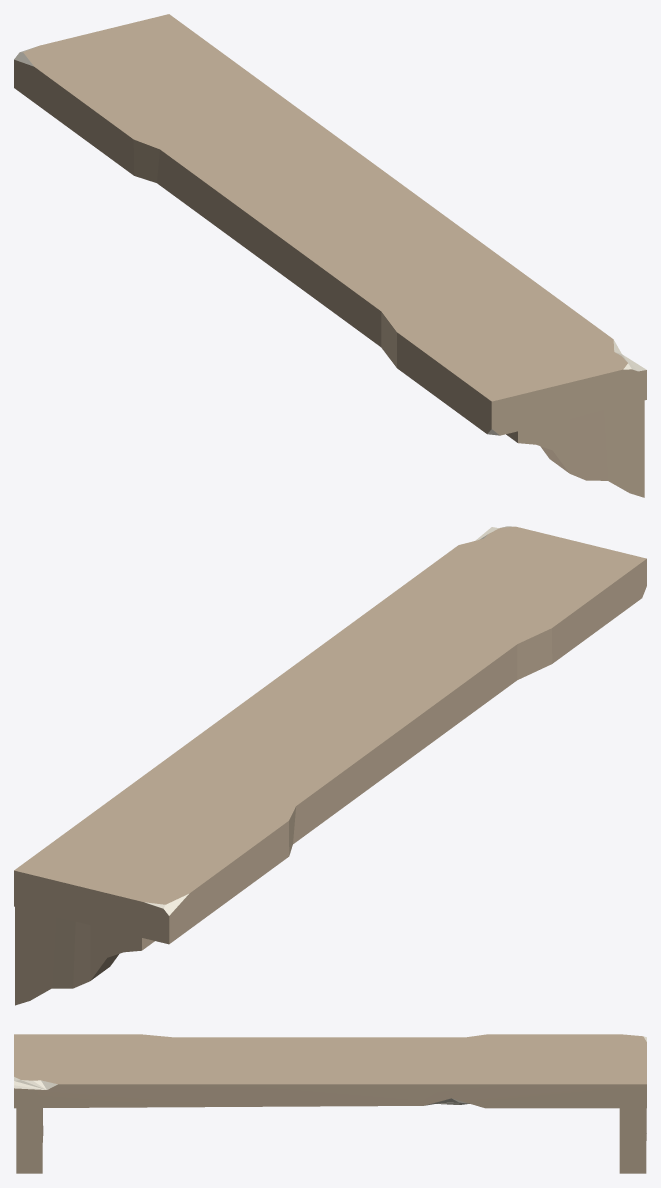
Rendered from Półka1.fbx.
The picture shows the model from 3 angles, top to bottom: view 1: azimuth 30°, elevation 25°; view 2: azimuth 150°, elevation 25°; view 3: azimuth 270°, elevation 25°; orthographic projection. The views are drawn at different scales.
Parts seen in each view (by area): view 1: 4; view 2: 4; view 3: 4.
Part boxes in pixels (left/top/right/bottom): 4: left=14, top=14, right=646, bottom=497; 4: left=14, top=526, right=646, bottom=1005; 4: left=14, top=1034, right=646, bottom=1173.
Bounding box in the file's own units: 45.14 × 37.49 × 240.
